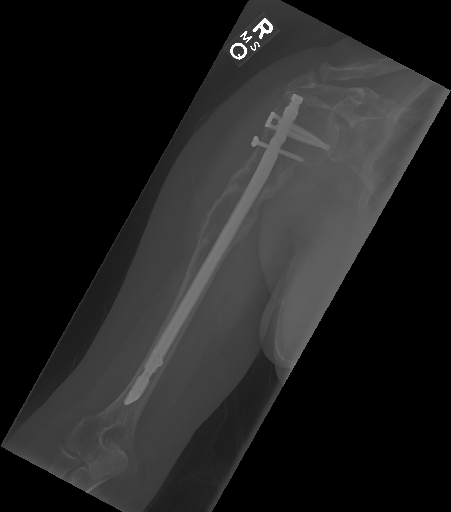implant: (251, 87, 330, 208)
